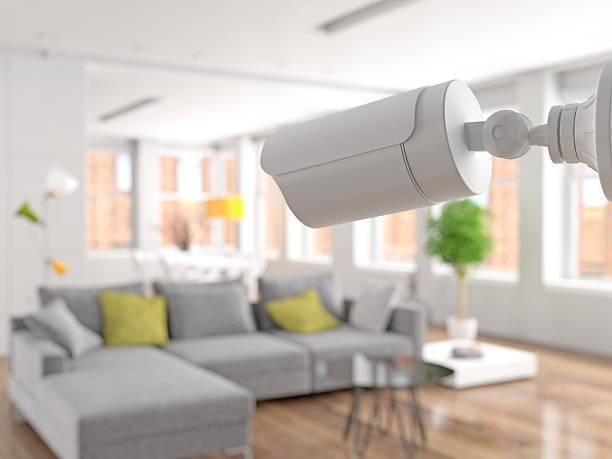camera: (226, 45, 526, 298)
